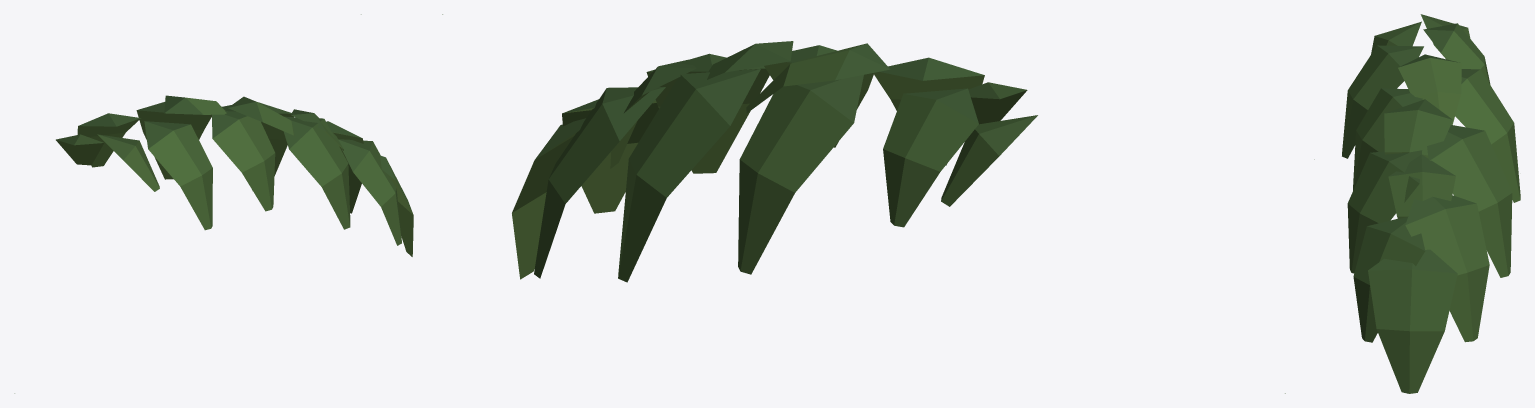
File: CedarBough_leaf.glb
The picture shows the model from 3 angles, left to right: view 1: azimuth 30°, elevation 25°; view 2: azimuth 150°, elevation 25°; view 3: azimuth 270°, elevation 25°; orthographic projection. The views are drawn at different scales.
Visible parts, largest first — view 1: CedarBough_leaf; view 2: CedarBough_leaf; view 3: CedarBough_leaf.
Boxes of the visible parts, bbox=[...] form: CedarBough_leaf: bbox=[14, 14, 413, 393]; CedarBough_leaf: bbox=[442, 14, 1285, 393]; CedarBough_leaf: bbox=[1314, 14, 1520, 393].
Bounding box in the file's own units: 12.31 × 5.4 × 4.58.
